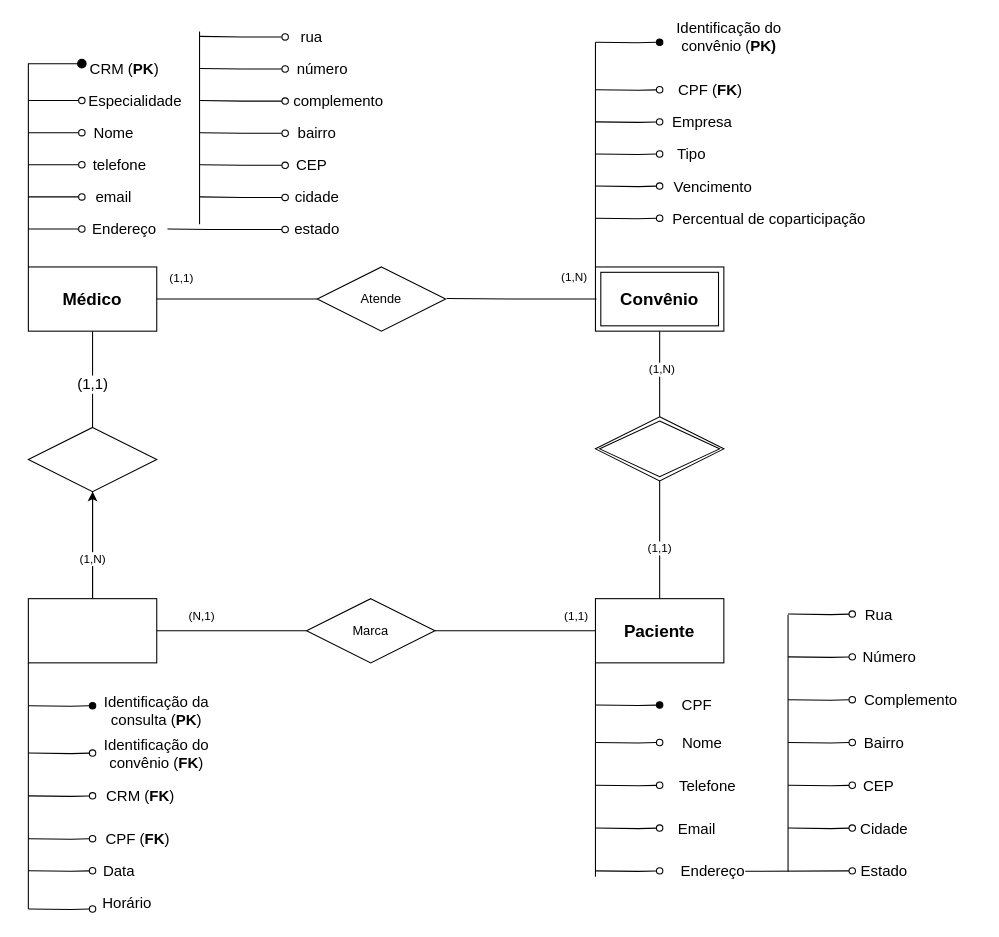
Image size: 999x937. Some labels were removed from this diagram. Here are the shapes that lost their labels. From the top down, the centre of each, then its label:
the point at 92,459: Realiza
the point at 659,448: Possui
the point at 92,630: Consulta
